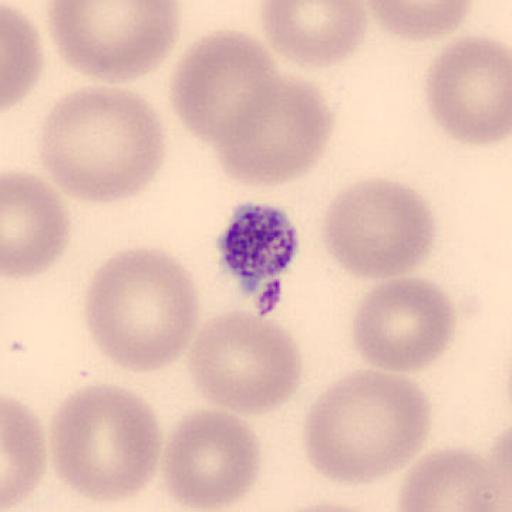Platelet: (215, 199, 304, 293)
RBC: (175, 44, 336, 189), (36, 84, 169, 204), (206, 70, 336, 190), (82, 244, 201, 374), (301, 369, 433, 486), (48, 382, 164, 504), (168, 28, 280, 148), (184, 308, 304, 417), (320, 175, 438, 281), (45, 1, 181, 85), (350, 274, 456, 376), (160, 407, 262, 511), (422, 32, 512, 146), (2, 169, 72, 281), (394, 444, 505, 512), (260, 1, 369, 68), (2, 395, 48, 511), (2, 2, 46, 112), (360, 0, 474, 42), (461, 426, 512, 512), (268, 499, 392, 512)
